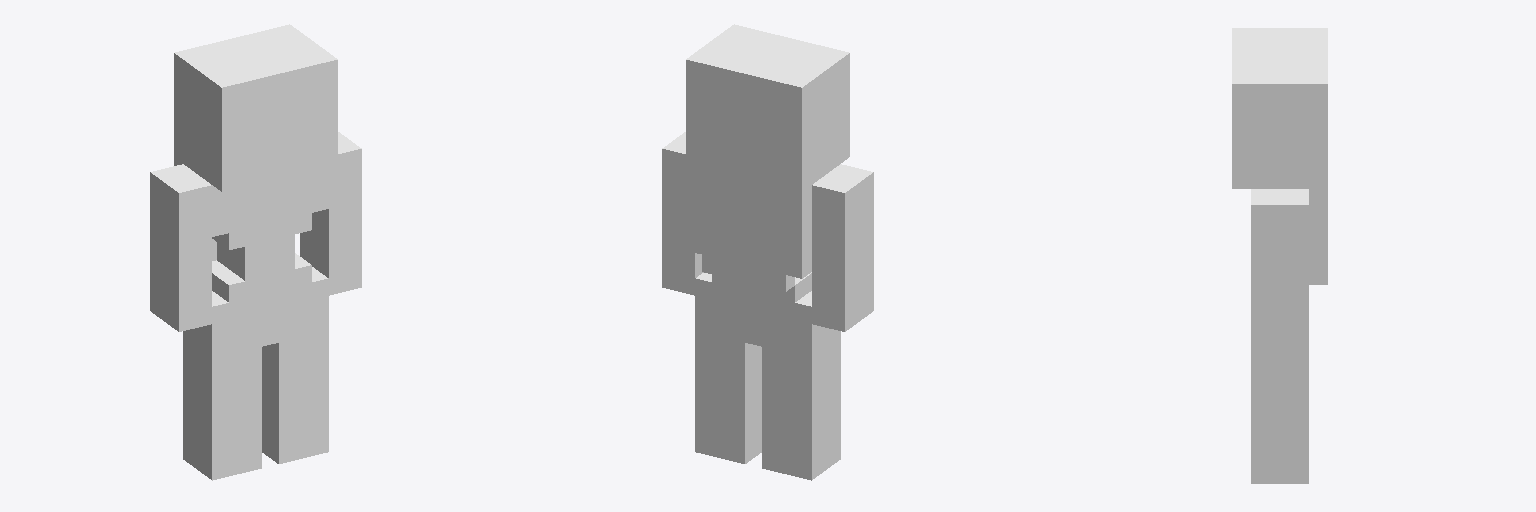
The model's file is Robin.obj.
3 renders of one model, left to right at view 1: azimuth 30°, elevation 25°; view 2: azimuth 150°, elevation 25°; view 3: azimuth 270°, elevation 25°, orthographic.
Parts seen in each view (by area): view 1: object 1; view 2: object 1; view 3: object 1.
Part boxes in pixels (bbox=[...]): object 1: bbox=[150, 24, 361, 480]; object 1: bbox=[662, 24, 873, 480]; object 1: bbox=[1232, 28, 1327, 483].
Bounding box in the file's own units: 1.1 × 2.3 × 0.5.